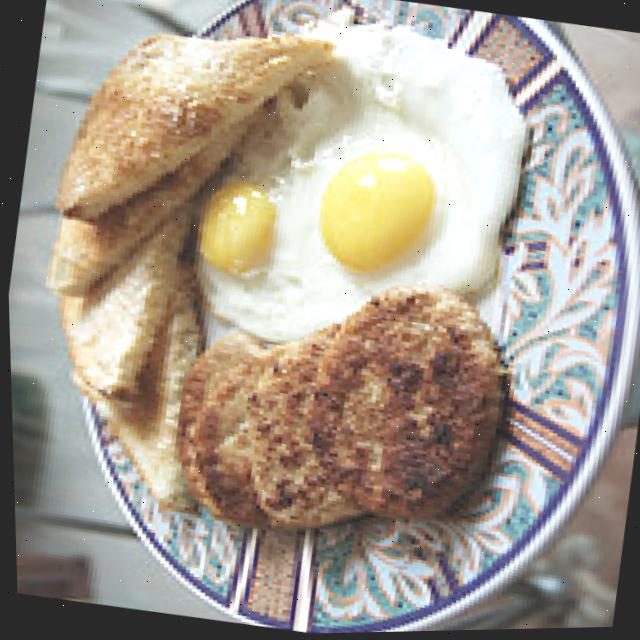鸡蛋料理: (109, 0, 526, 389)
